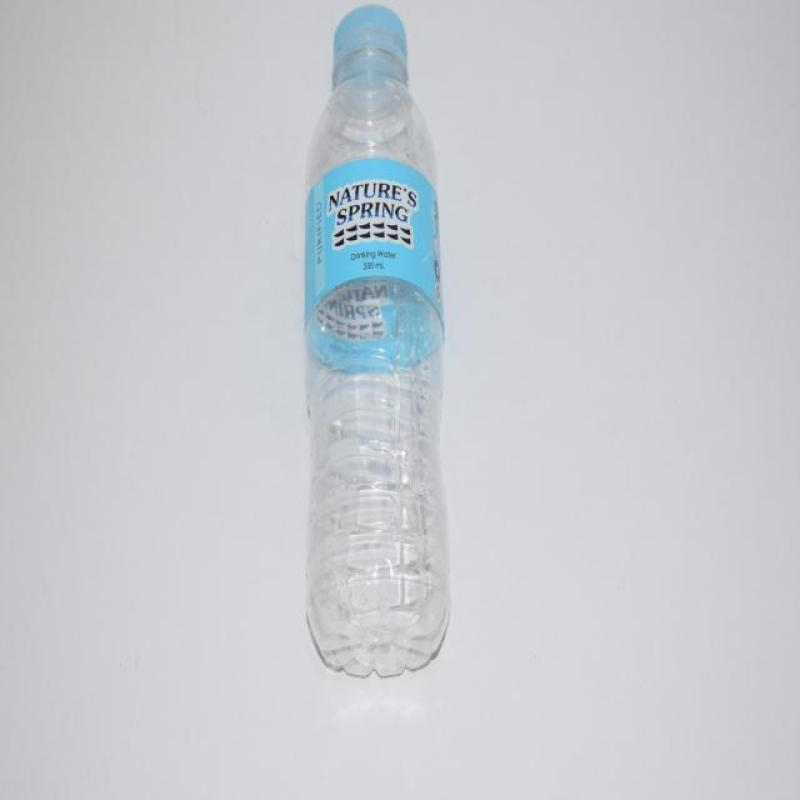botella: (302, 2, 458, 678)
